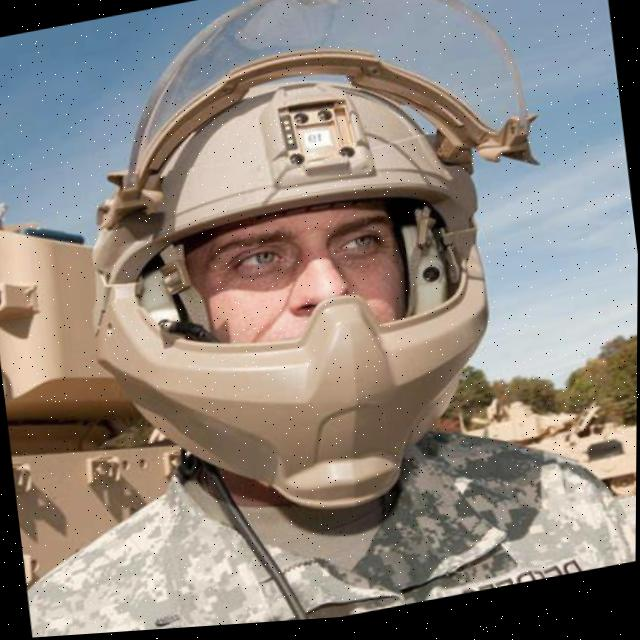illegal_helmet: (46, 0, 595, 567)
